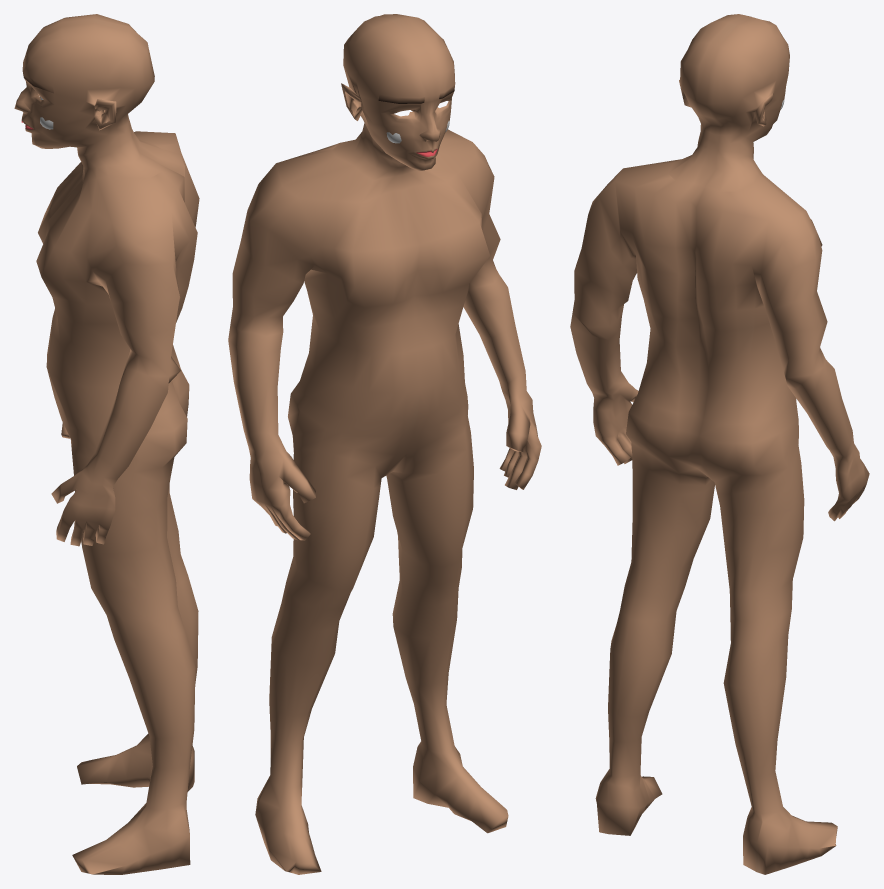
Rendered from boneco13.glb.
3 renders of one model, left to right at view 1: azimuth 30°, elevation 25°; view 2: azimuth 150°, elevation 25°; view 3: azimuth 270°, elevation 25°, orthographic. The views are drawn at different scales.
Parts seen in each view (by area): view 1: Plane.014; view 2: Plane.014; view 3: Plane.014.
Boxes of the visible parts, left/top/right/bottom form: Plane.014: left=14, top=14, right=199, bottom=874; Plane.014: left=228, top=14, right=541, bottom=874; Plane.014: left=570, top=14, right=869, bottom=874.
Bounding box in the file's own units: 0.9467 × 3.47 × 1.18.
